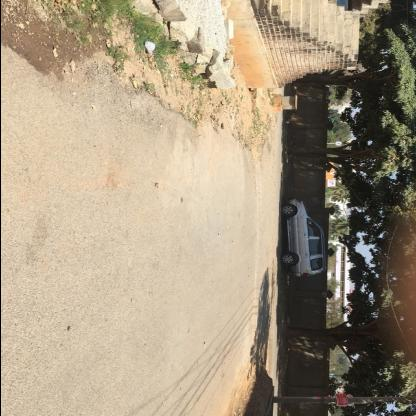speed-bumps: (236, 141, 268, 374)
